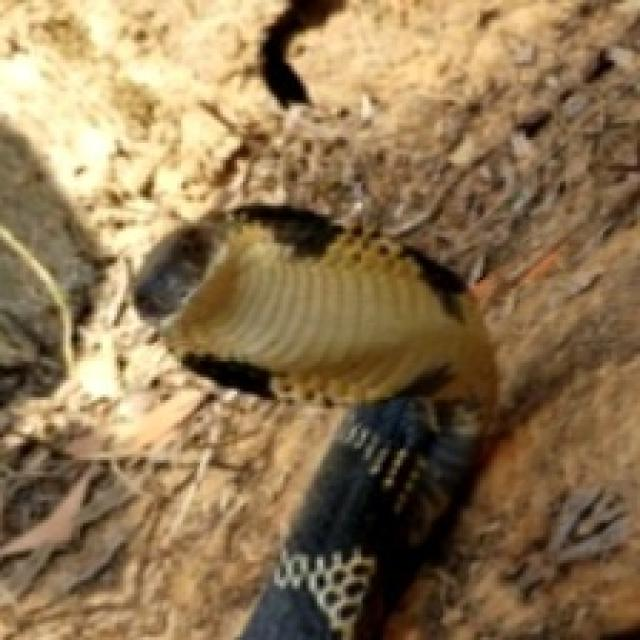king cobra: (134, 203, 494, 637)
